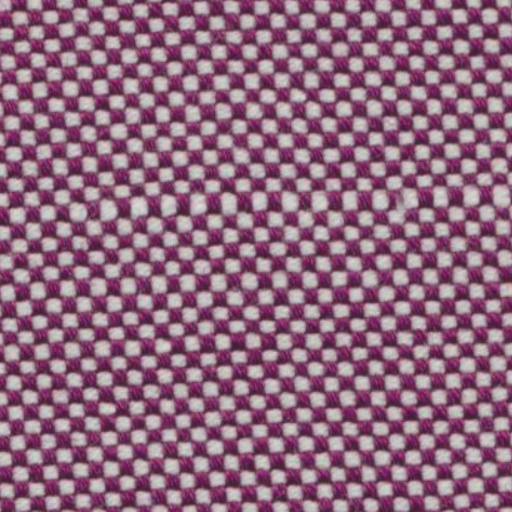TuoSha: (12, 164, 500, 230)
